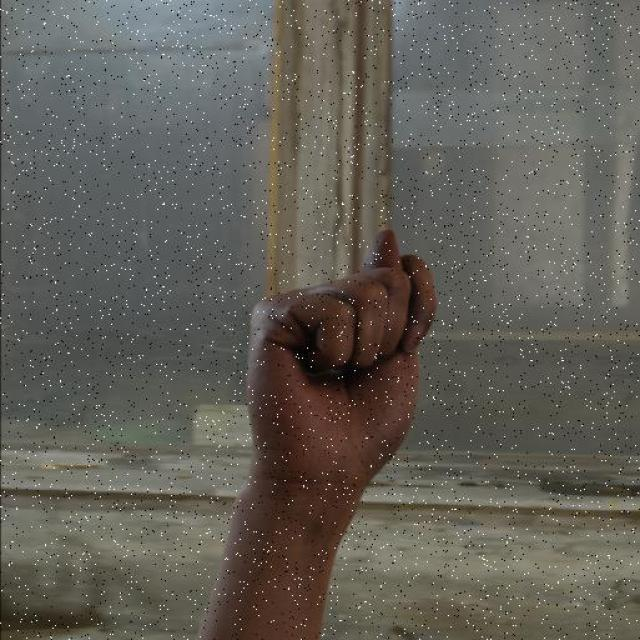T: (234, 222, 440, 483)
